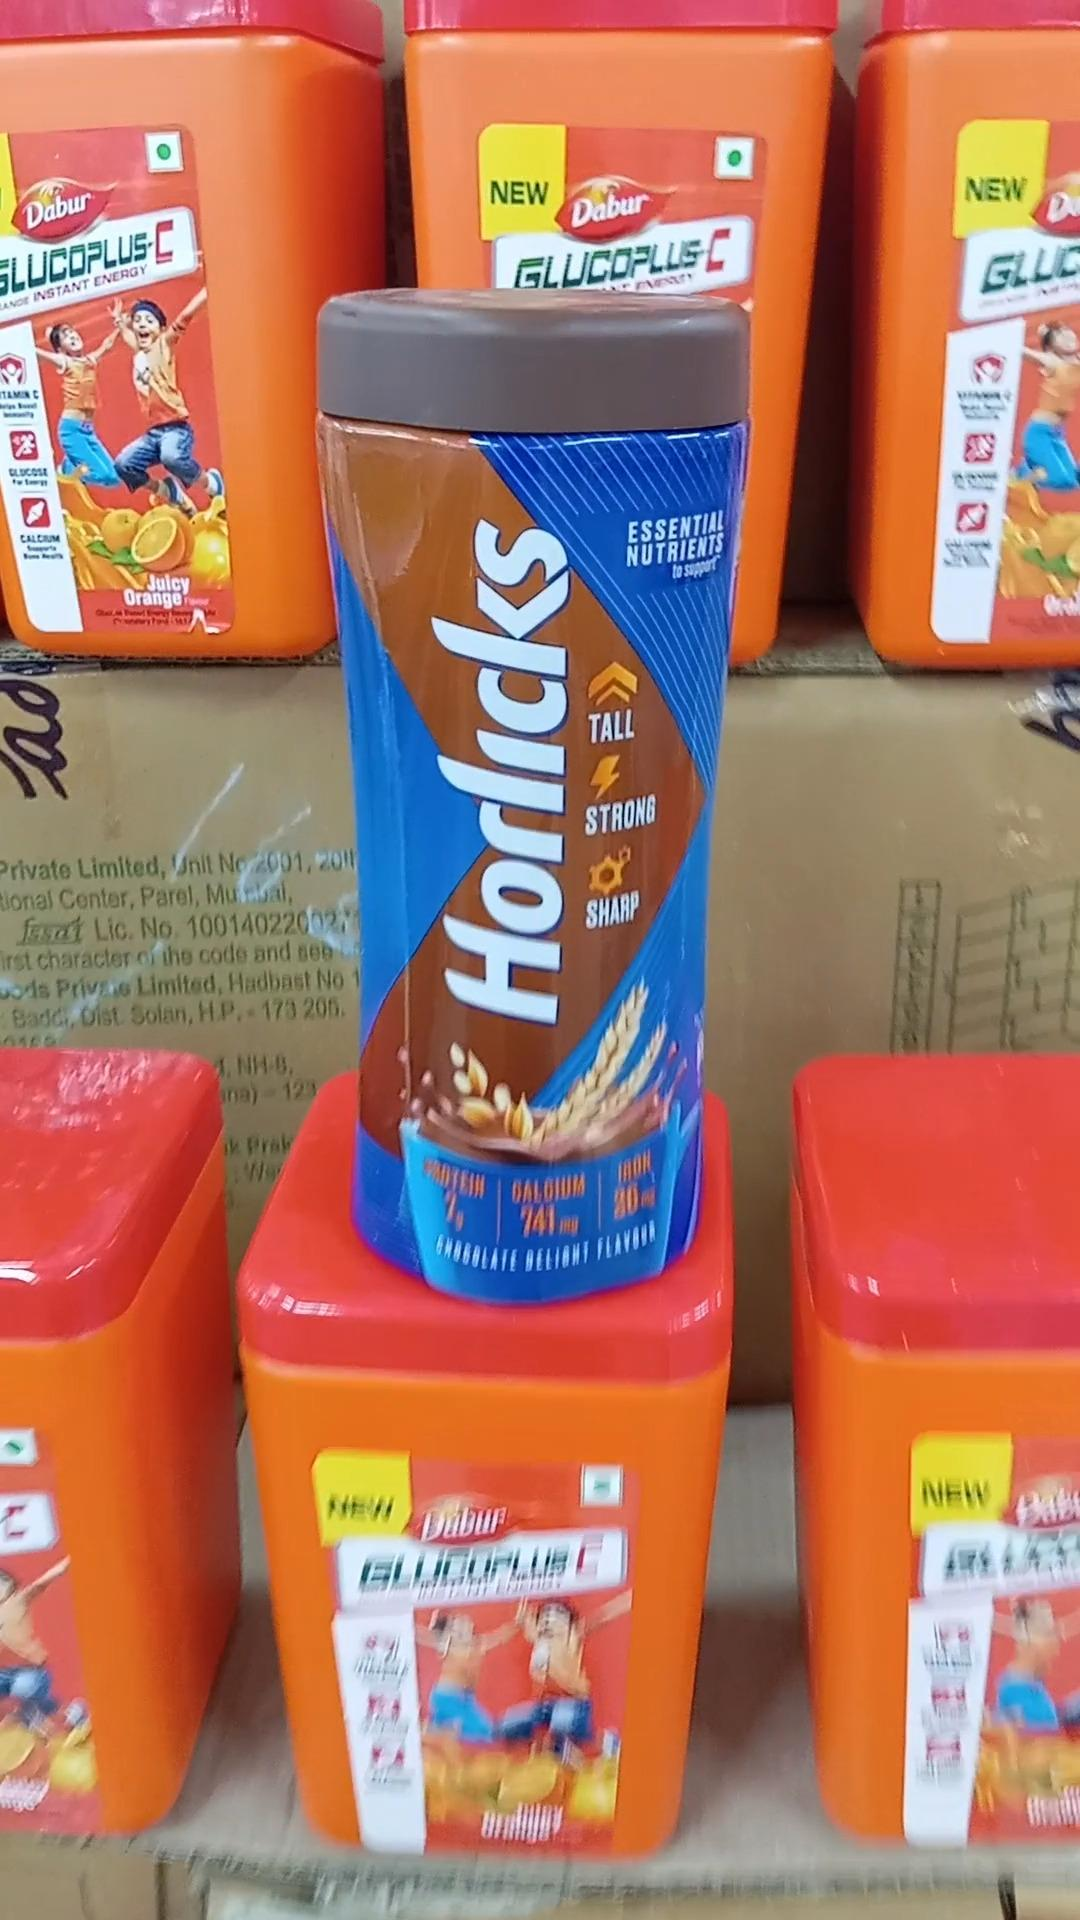HORLICK_CHOCOLATE_500_G_JAR: (324, 273, 711, 1299)
